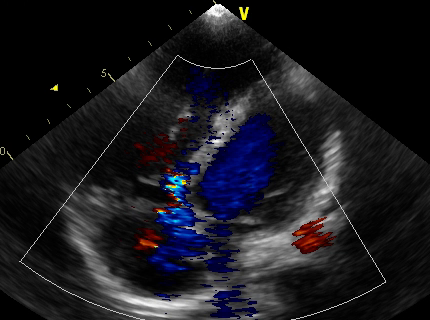TR: (132, 167, 207, 241)
